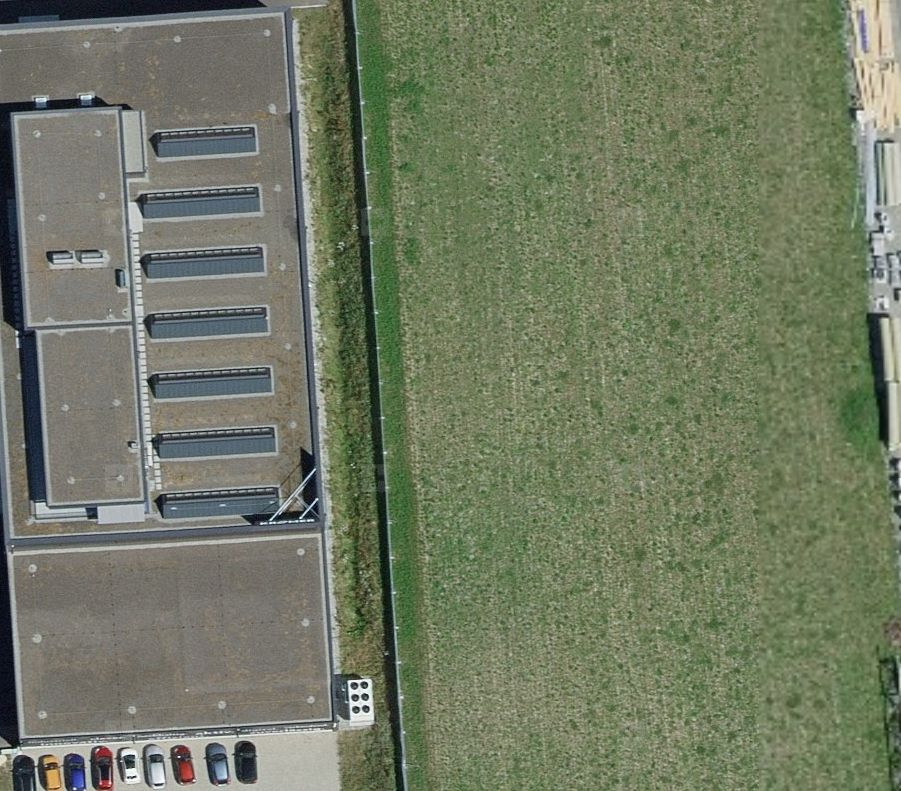solar: (139, 111, 277, 522), (142, 301, 274, 341), (147, 365, 274, 404), (140, 244, 268, 282), (134, 185, 266, 221), (152, 425, 280, 459), (158, 484, 281, 518), (150, 125, 258, 160)
